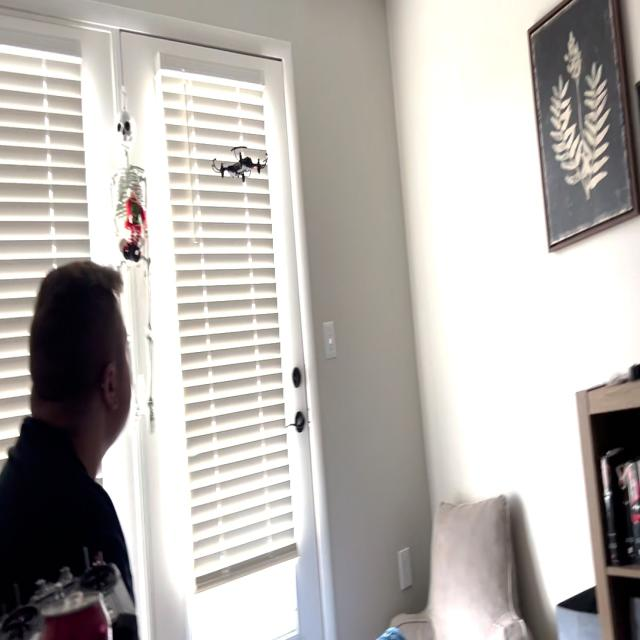drone: (208, 128, 271, 193)
